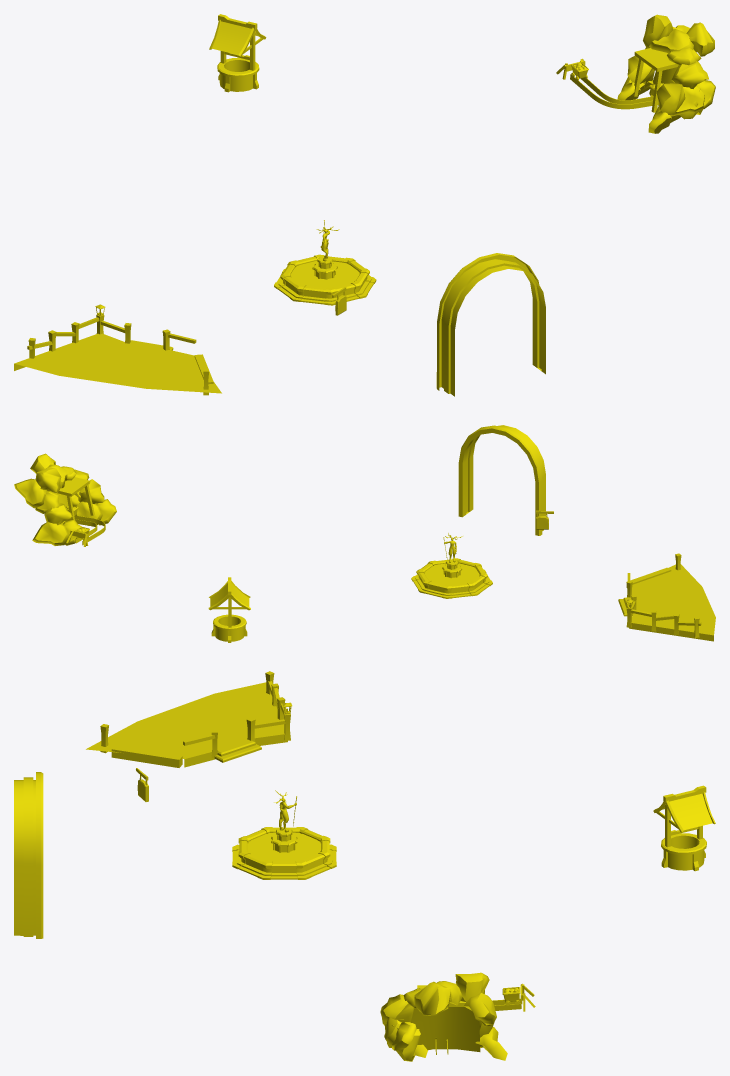
The model's file is TownAssets.FBX.
3 views of the same model, one above another, from view 1: azimuth 30°, elevation 25°; view 2: azimuth 150°, elevation 25°; view 3: azimuth 270°, elevation 25° (orthographic). The views are drawn at different scales.
Visible parts, largest first — view 1: Box096, MineChaft, Cylinder001, Box112, Cylinder002, Object073; view 2: MineChaft, Box096, Cylinder001, Box112, Cylinder002, Object073; view 3: Box096, MineChaft, Cylinder001, Box112, Cylinder002, Object073.
Boxes of the visible parts, x1,y1,x2,y2 form: Box096: (14, 287, 346, 395); MineChaft: (556, 14, 715, 133); Cylinder001: (436, 253, 545, 396); Box112: (209, 14, 266, 92); Cylinder002: (274, 254, 376, 305); Object073: (290, 261, 359, 288); MineChaft: (14, 453, 116, 546); Box096: (536, 510, 715, 641); Cylinder001: (458, 425, 545, 535); Box112: (208, 577, 250, 642); Cylinder002: (411, 558, 492, 598); Object073: (424, 563, 479, 584); Box096: (86, 671, 292, 801); MineChaft: (380, 972, 535, 1061); Cylinder001: (14, 772, 43, 938); Box112: (653, 785, 715, 871); Cylinder002: (232, 827, 336, 879); Object073: (247, 832, 321, 861).
Bounding box in the file's own units: 2674 × 431 × 1909.
